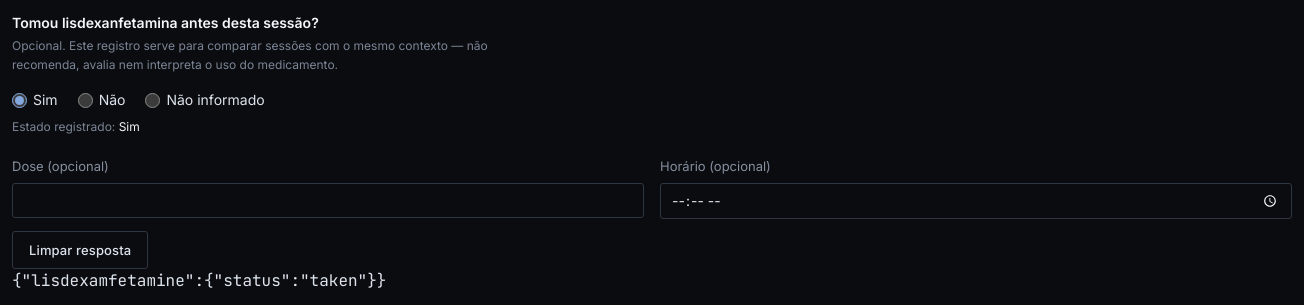
Test: as três opções explícitas › permite voltar explicitamente para Não informado
Click the radio button labelled "Não informado": (153, 100) [146,93,160,108]
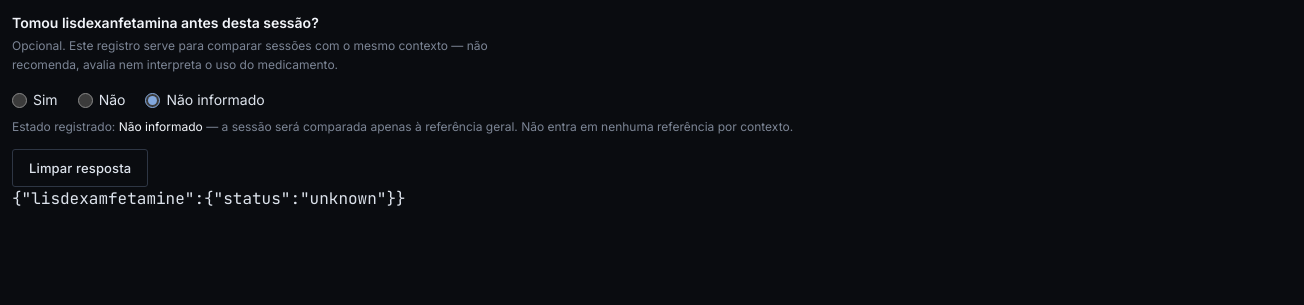
Result: the text "Estado registrado:" shows "Não informado" at [119,119,203,134]
